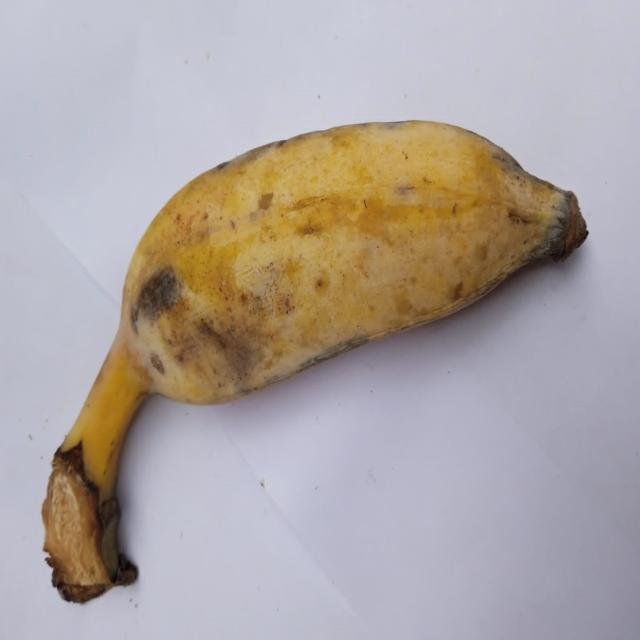banana: (43, 122, 586, 601)
